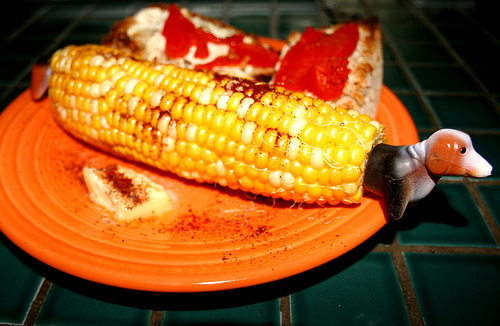corn: (47, 43, 381, 210)
